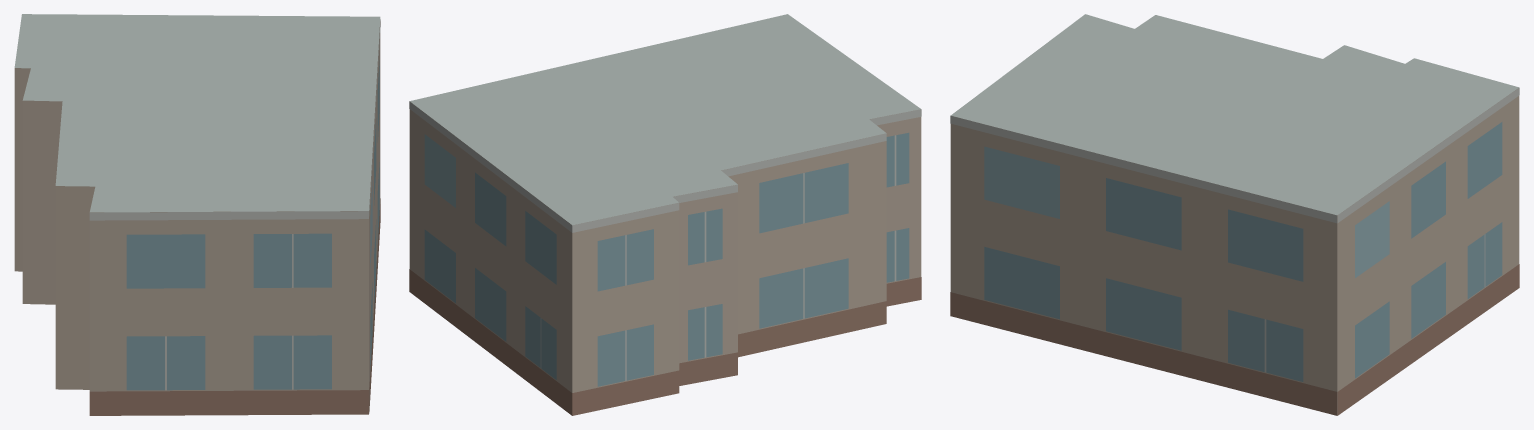
The model's file is survey-upis-32951340.glb.
3 renders of one model, left to right at view 1: azimuth 30°, elevation 25°; view 2: azimuth 150°, elevation 25°; view 3: azimuth 270°, elevation 25°, orthographic. The views are drawn at different scales.
Visible parts, largest first — view 1: survey-upis-32951340.tmp; view 2: survey-upis-32951340.tmp; view 3: survey-upis-32951340.tmp.
Part boxes in pixels (x1=…): survey-upis-32951340.tmp: x1=14, y1=14, x2=380, y2=415; survey-upis-32951340.tmp: x1=409, y1=14, x2=921, y2=415; survey-upis-32951340.tmp: x1=950, y1=14, x2=1519, y2=415.
Bounding box in the file's own units: 13.15 × 6.1 × 15.7.
